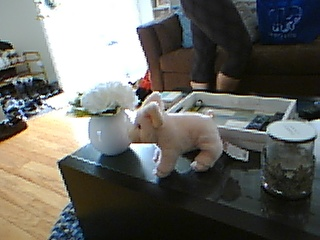piggy: (128, 90, 225, 179)
